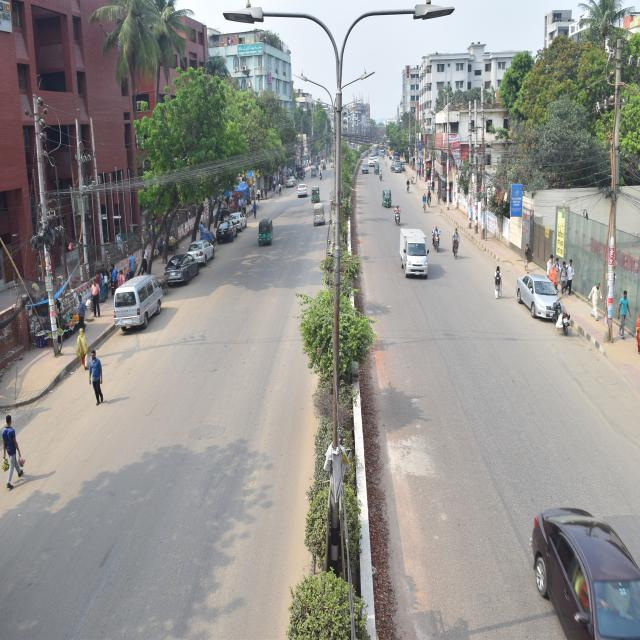car: (525, 498, 640, 640), (517, 268, 555, 322), (164, 253, 193, 290), (183, 245, 216, 266), (215, 212, 234, 245), (226, 198, 245, 230), (296, 177, 310, 193), (286, 173, 295, 195)
microbus: (100, 280, 176, 320)
motorbike: (547, 288, 570, 338), (427, 224, 446, 257), (391, 202, 403, 229), (426, 190, 436, 208)
